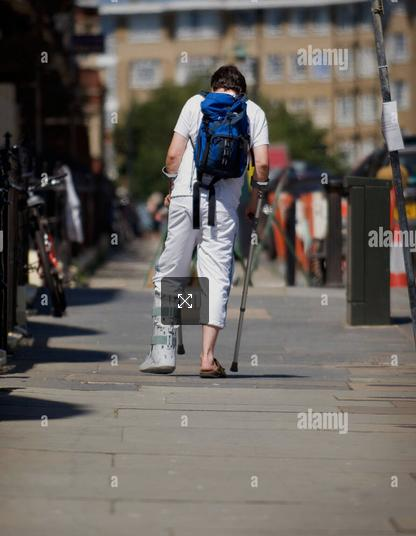crutches: (138, 63, 271, 378)
